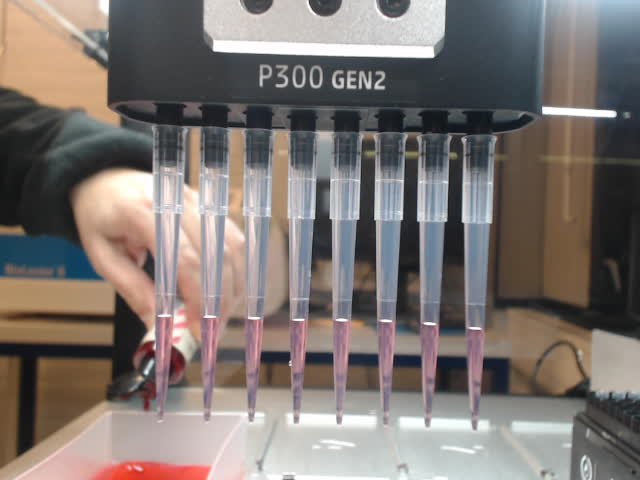Liquid: (372, 316, 400, 431), (462, 324, 491, 433), (287, 314, 313, 426), (418, 319, 443, 432), (330, 316, 355, 428), (152, 310, 175, 424), (243, 311, 266, 424), (199, 312, 222, 422)
Tip: (369, 131, 411, 433), (458, 133, 500, 433), (414, 130, 454, 433), (149, 122, 189, 425), (327, 128, 366, 428), (238, 127, 277, 425), (195, 125, 233, 424), (284, 128, 321, 426)
